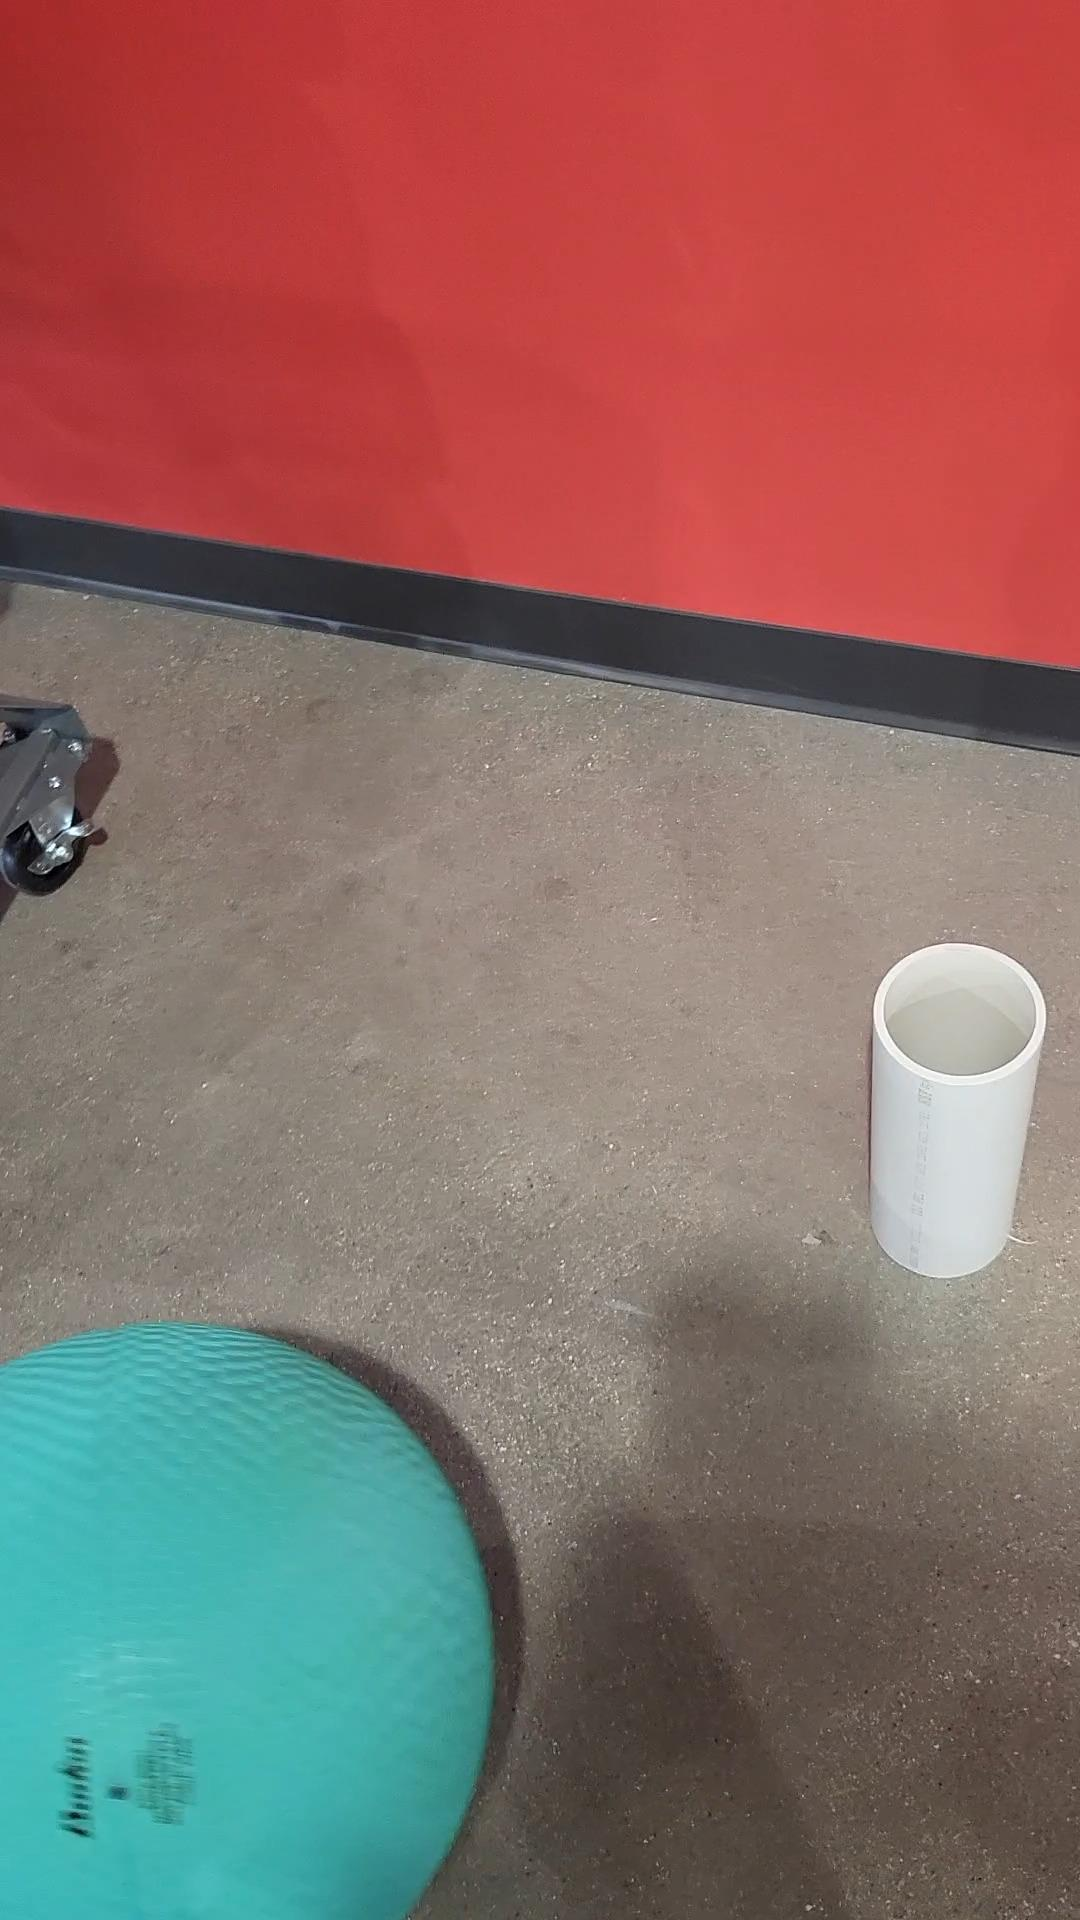algae: (0, 1315, 505, 1920)
coral: (869, 940, 1050, 1279)
